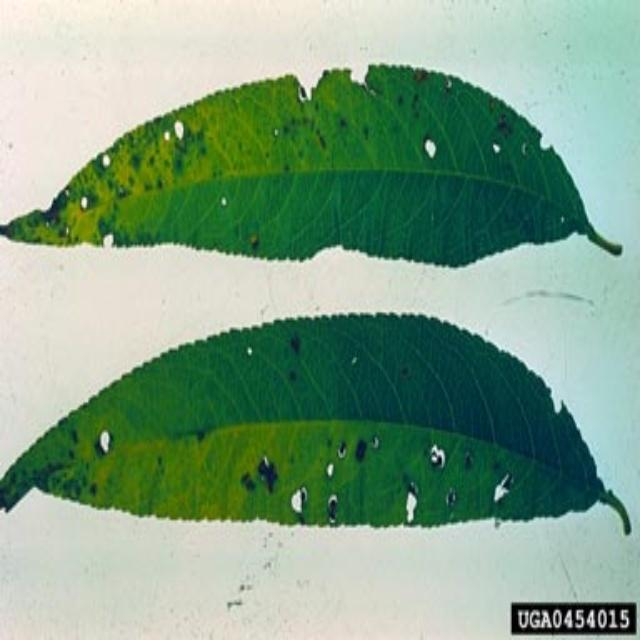shot_hole: (0, 384, 640, 566), (0, 45, 249, 272), (364, 4, 613, 231)
